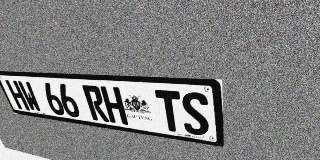6: (54, 83, 82, 118), (40, 82, 67, 116)
H: (100, 86, 128, 125), (5, 80, 30, 111)
R: (82, 85, 110, 122)
S: (180, 91, 210, 137)
T: (155, 90, 184, 133)
W: (17, 81, 43, 113)
